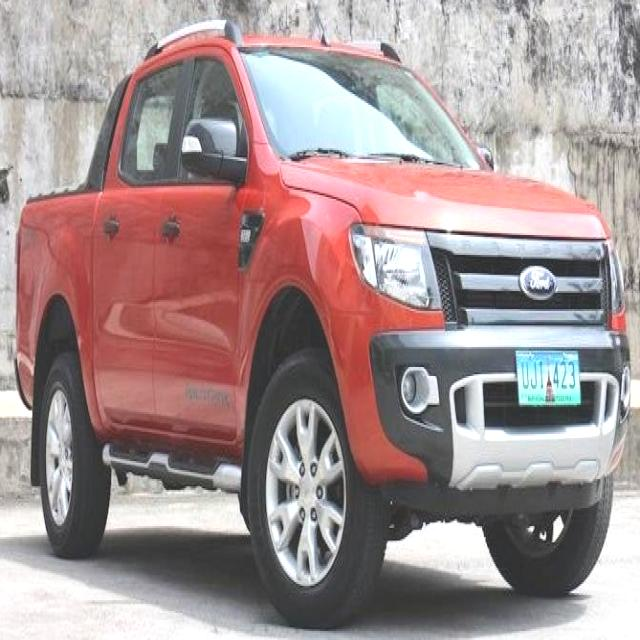CMT: (14, 28, 623, 604)
